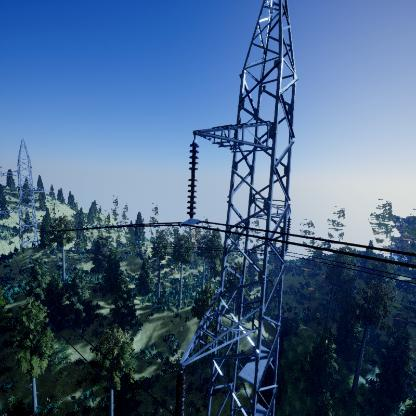insulator: (186, 141, 201, 216)
